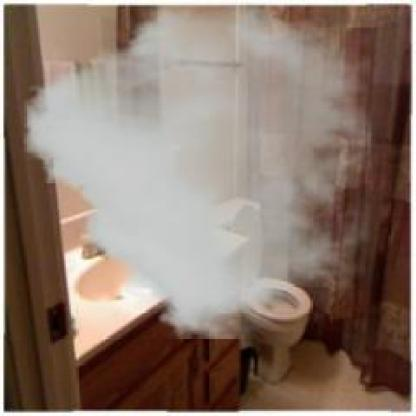Smoke: (23, 2, 372, 338)
